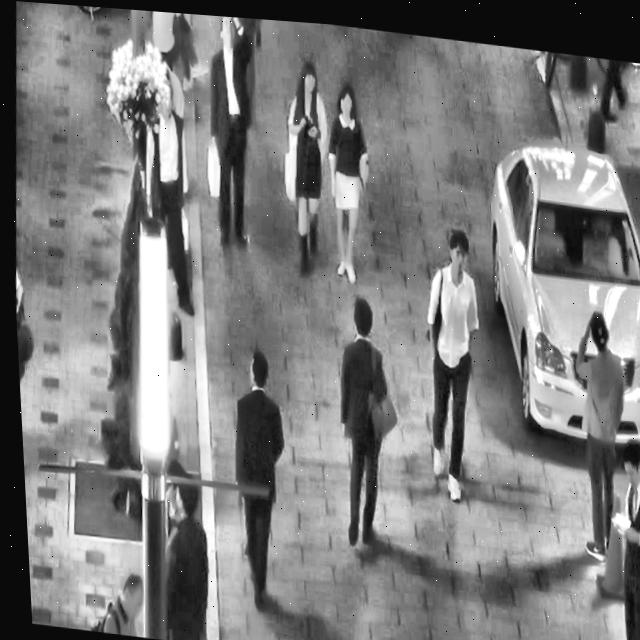light_vehicle: (466, 109, 640, 451)
